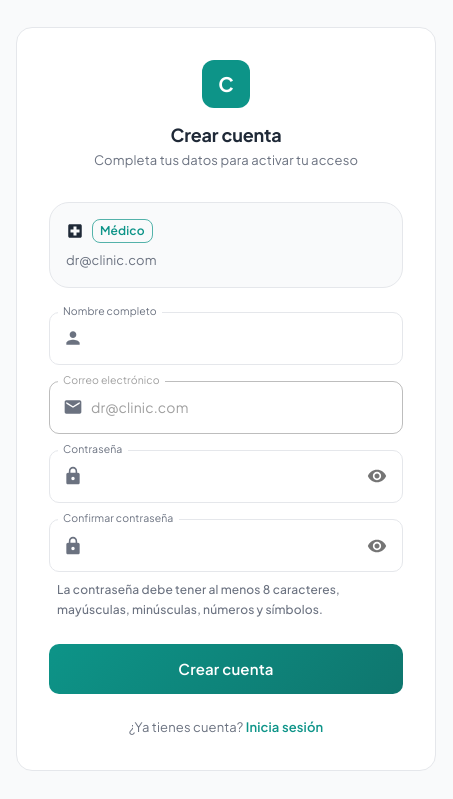
it: RegisterPage › shows password requirement error for a weak password
This screenshot has width=453, height=799.
Expected: the heading "Crear cuenta" is shown, [170, 123, 282, 146]
In the field labelled "Nombre completo": coordinates (247, 338) [91, 312, 403, 365], type "Ana Torres"
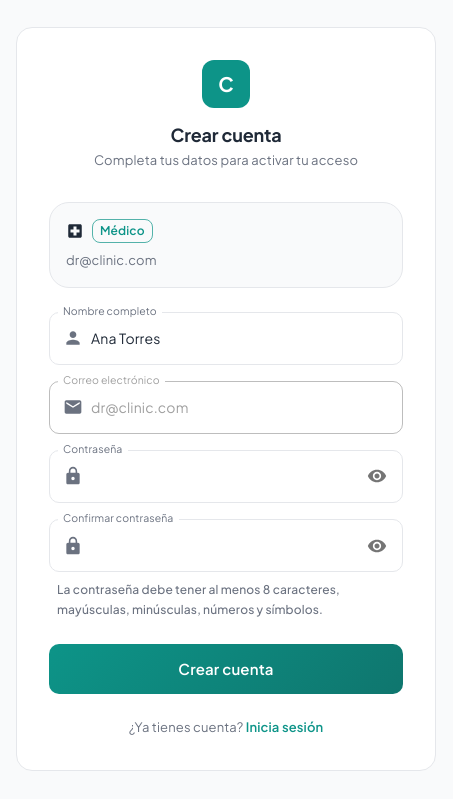
In the password field labelled "Contraseña": coordinates (222, 476) [91, 450, 354, 503], type "short"
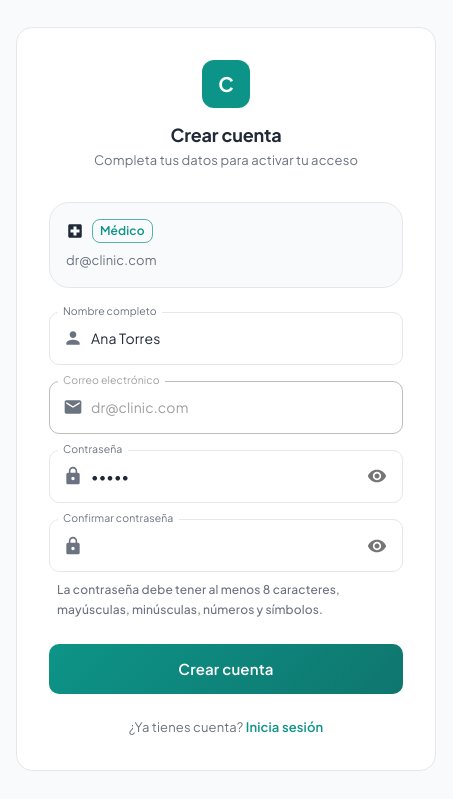
In the password field labelled "Confirmar contraseña": coordinates (222, 546) [91, 519, 354, 572], type "short"
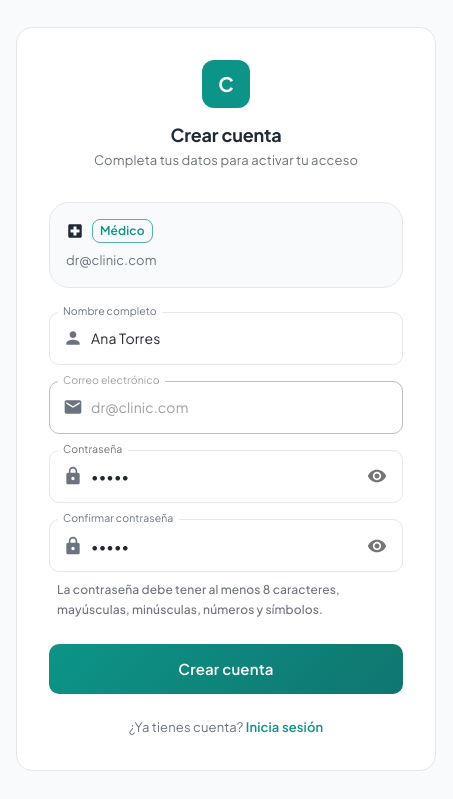
Click the button "Crear cuenta": coordinates (226, 669) [49, 644, 403, 694]
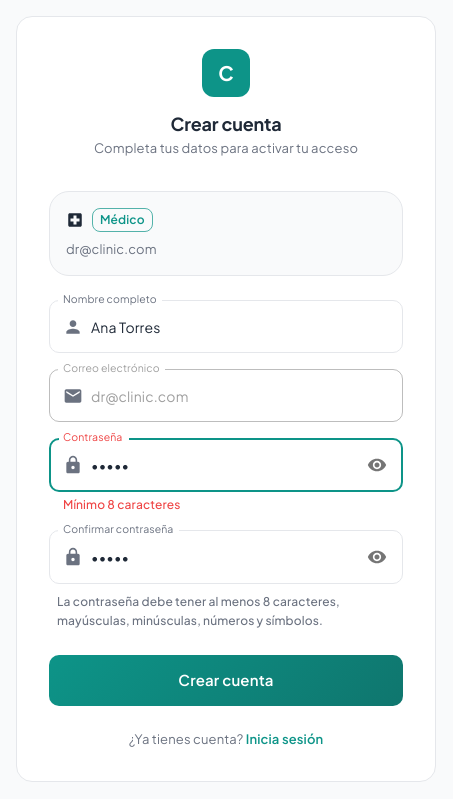
Expected: the text "Mínimo 8 caracteres" is shown, [63, 496, 181, 512]
